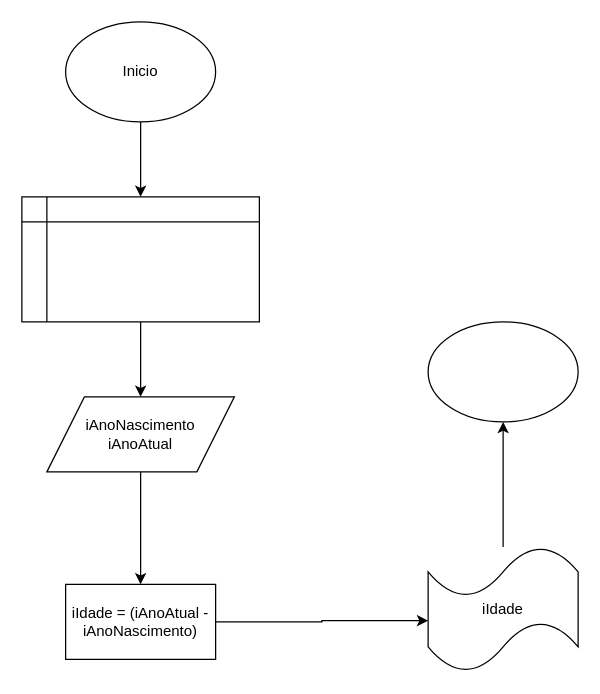
Image size: 600x694. Some labels were removed from this diagram. Each missing label, with the box of its shape:
FIM: (427, 321, 578, 422)
iIdade iAnoNascimento iAnoAtual: (21, 196, 259, 322)
